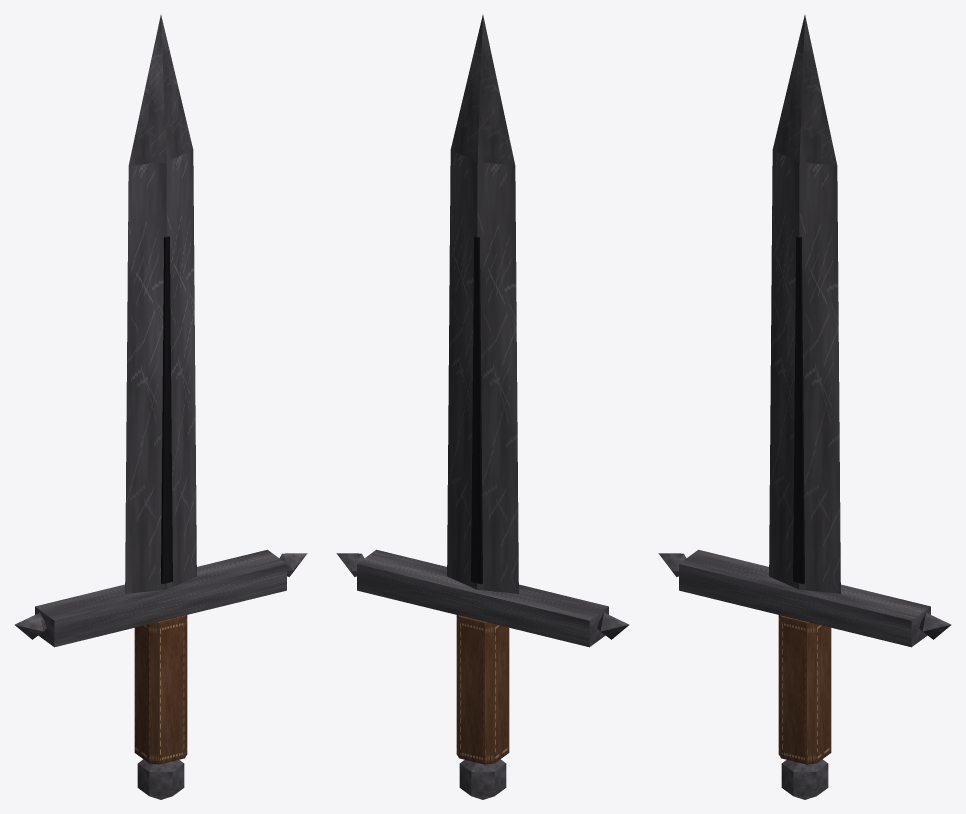
The model's file is ApprenticeSword.fbx.
The picture shows the model from 3 angles, left to right: view 1: azimuth 30°, elevation 25°; view 2: azimuth 150°, elevation 25°; view 3: azimuth 330°, elevation 25°; orthographic projection.
Visible parts, largest first — view 1: Blade, Guard, Handle, Pommel; view 2: Blade, Guard, Handle, Pommel; view 3: Blade, Guard, Handle, Pommel.
Boxes of the visible parts, bbox=[...] form: Blade: bbox=[125, 15, 196, 593]; Guard: bbox=[14, 549, 307, 647]; Handle: bbox=[134, 615, 187, 764]; Pommel: bbox=[137, 759, 184, 799]; Blade: bbox=[447, 15, 518, 593]; Guard: bbox=[336, 549, 629, 647]; Handle: bbox=[456, 615, 509, 764]; Pommel: bbox=[459, 759, 506, 799]; Blade: bbox=[769, 15, 840, 593]; Guard: bbox=[658, 549, 951, 647]; Handle: bbox=[778, 615, 831, 764]; Pommel: bbox=[781, 759, 828, 799].
Size of the model in its own units: 139 by 355 by 19.05.
1 material, 1 textured.
